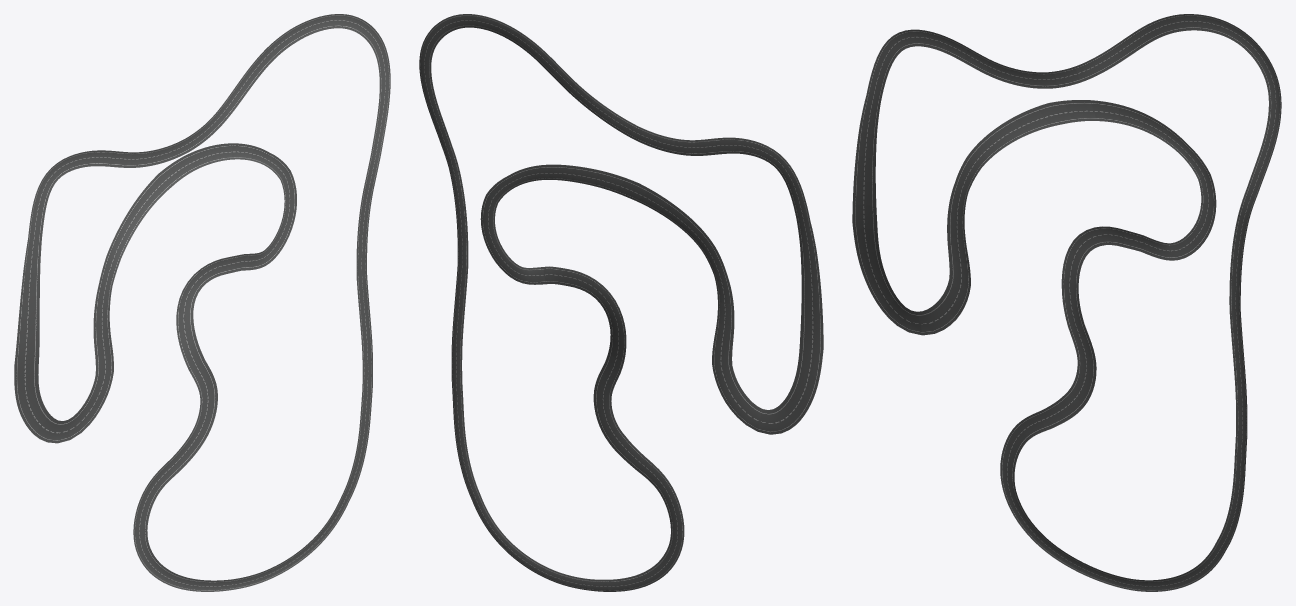
Rendered from GUPO_GRADEDROAD.fbx.
3 views of the same model, side by side, from view 1: azimuth 30°, elevation 25°; view 2: azimuth 150°, elevation 25°; view 3: azimuth 330°, elevation 25° (orthographic). The views are drawn at different scales.
Visible parts, largest first — view 1: WORKING; view 2: WORKING; view 3: WORKING.
Part boxes in pixels (<box>): WORKING: <box>14,14,390,591</box>; WORKING: <box>419,14,823,591</box>; WORKING: <box>852,14,1281,591</box>.
Bounding box in the file's own units: 475159 × 64833 × 641922.
Materials: 1 (1 with a texture image).
